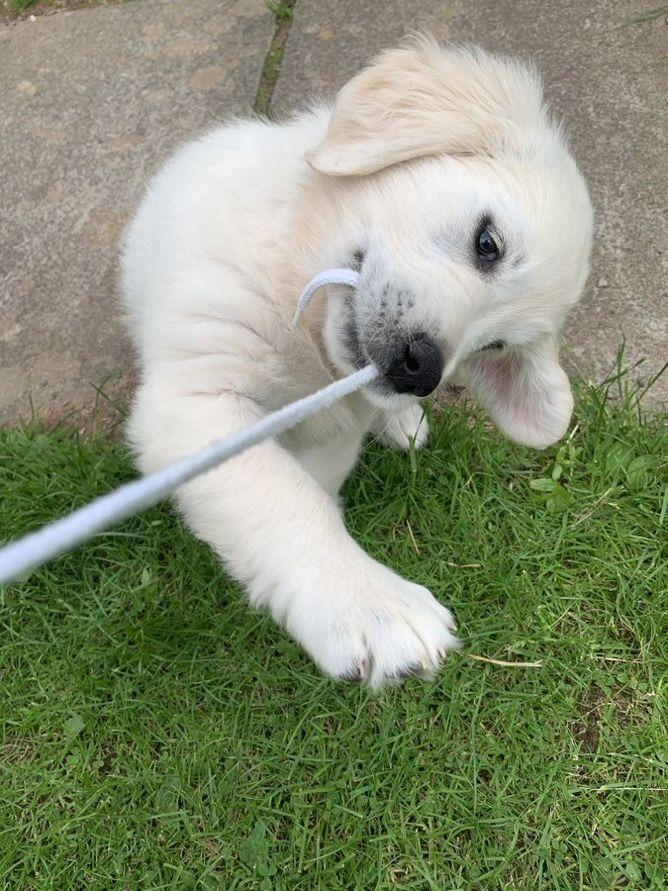puppy-dog: (109, 30, 597, 694)
